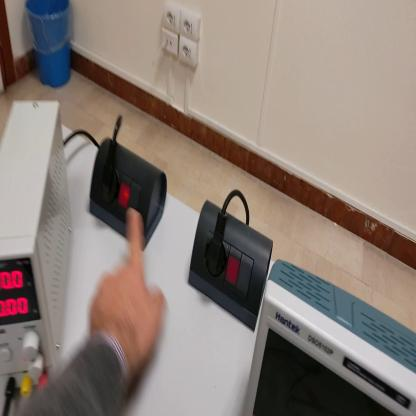hand: (88, 207, 166, 378)
oscilloscope: (242, 262, 414, 415)
power supply: (2, 101, 75, 402)
socket: (189, 199, 273, 332), (87, 134, 168, 249)
